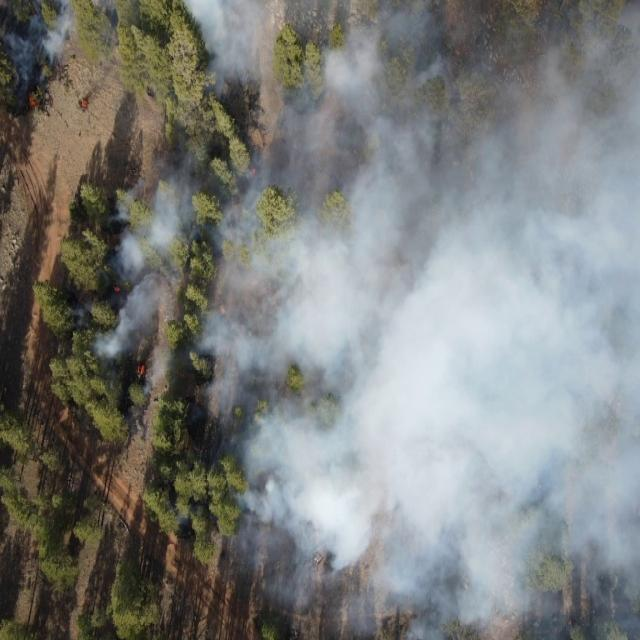fire: (25, 89, 40, 112), (136, 359, 152, 369), (248, 167, 258, 175), (113, 282, 119, 294), (82, 100, 87, 110)
smoke: (195, 11, 640, 640), (1, 0, 271, 94), (104, 162, 197, 386)
